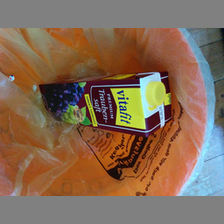juice: (39, 70, 174, 138)
